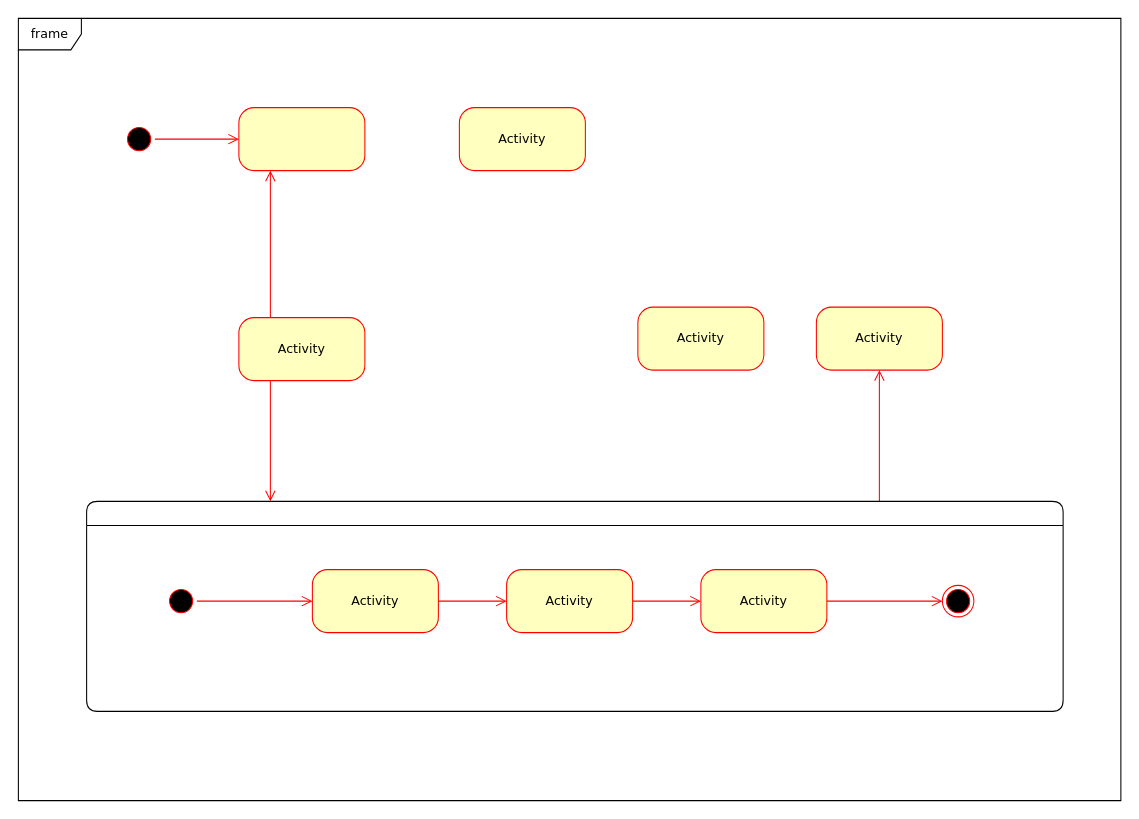
This 1139x819 diagram has some shape labels left out. Each missing label, with the box of its shape:
Idle: (238, 107, 365, 171)
Stun Cycle: (86, 500, 1063, 711)
